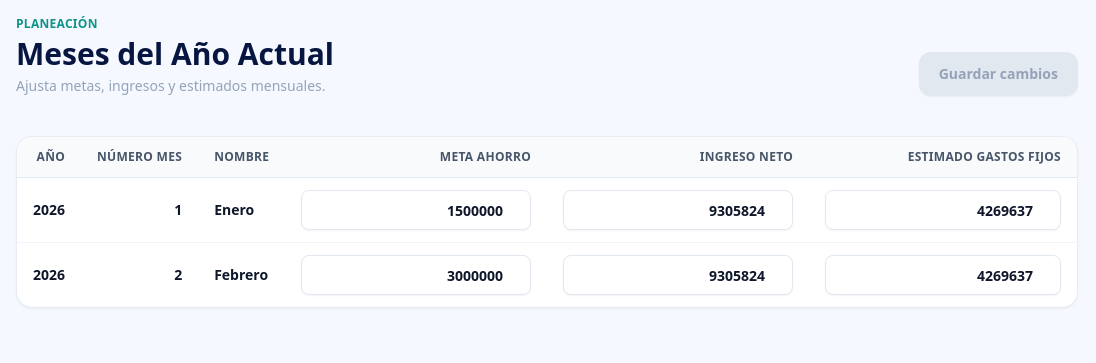
MesesTable more coverage › muestra error cuando falla guardar cambios
Replace the text in the 1st number field with "777" at (416, 210), box [301,190,531,230]
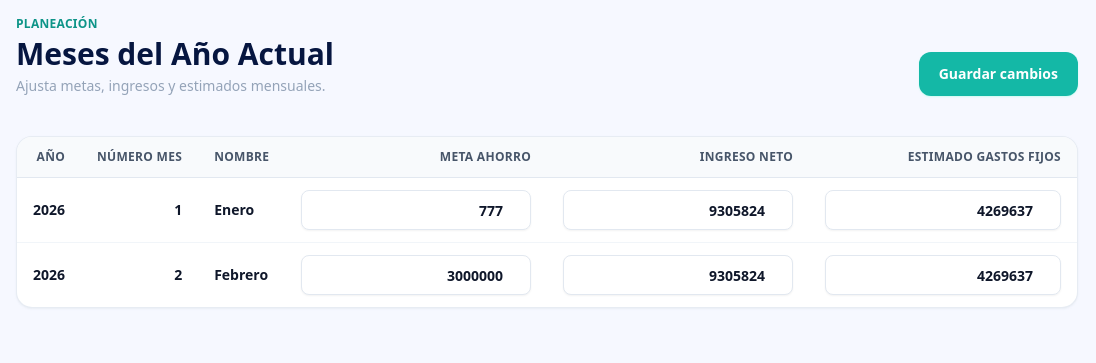
Click the button "Guardar cambios" at (998, 74), box [919,52,1078,96]
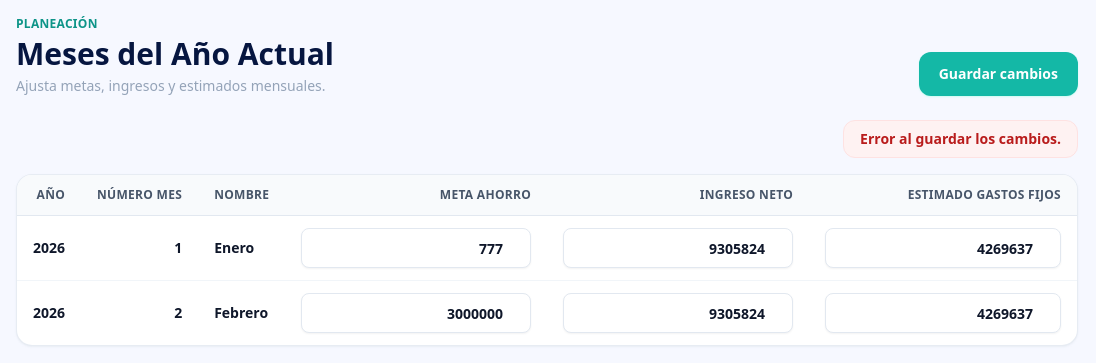
Expected: the text "Error al guardar los cambios." is shown, [843,120,1078,158]
